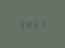eight: (25, 20, 31, 28)
nine: (18, 20, 24, 28)
seven: (39, 20, 45, 28)
two: (32, 20, 38, 28)
